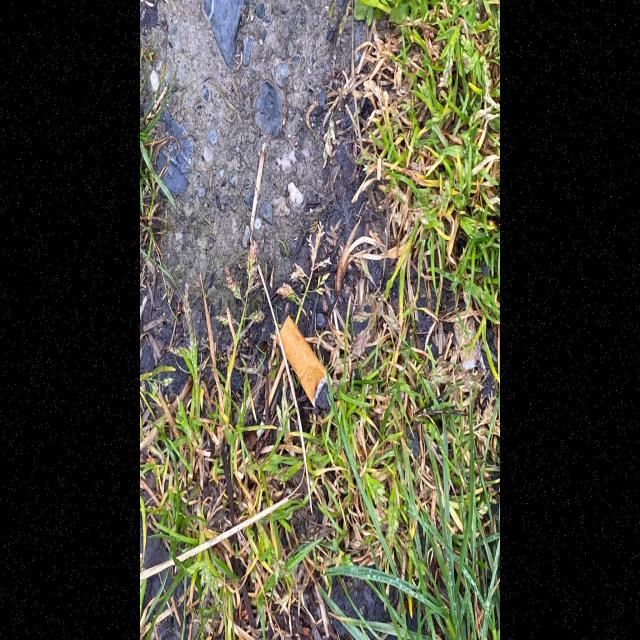other waste: (276, 313, 333, 414)
